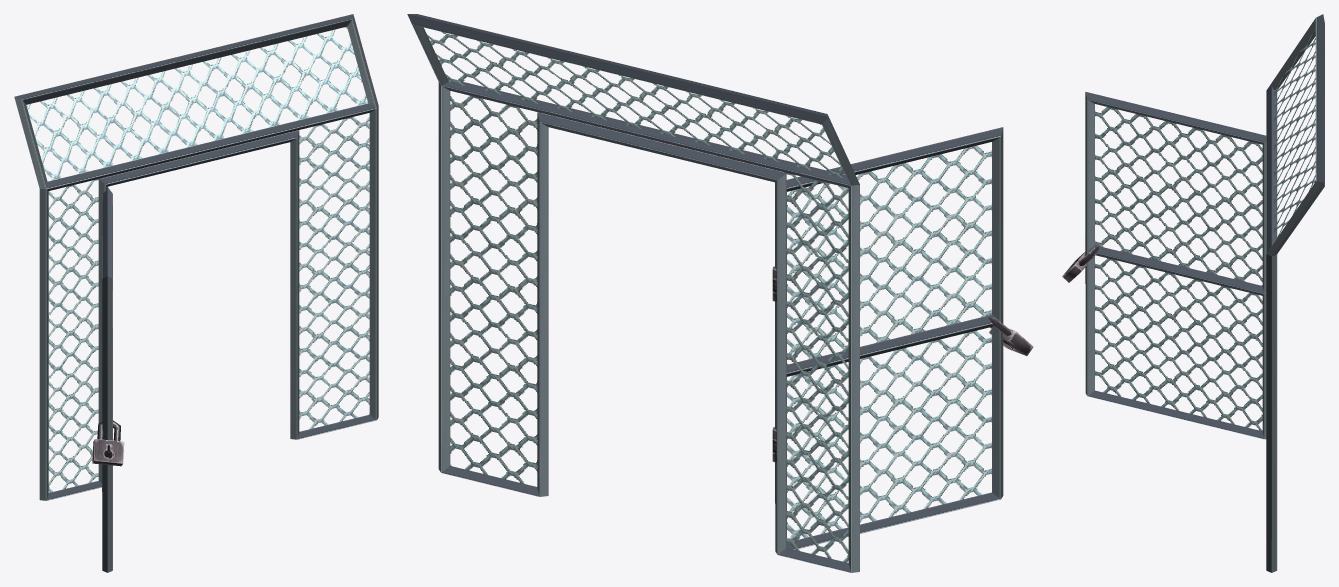
The model's file is a_sewirefence01.glb.
3 views of the same model, side by side, from view 1: azimuth 30°, elevation 25°; view 2: azimuth 150°, elevation 25°; view 3: azimuth 270°, elevation 25° (orthographic). The views are drawn at different scales.
Parts seen in each view (by area): view 1: a_sewirefence01; view 2: a_sewirefence01; view 3: a_sewirefence01.
Part boxes in pixels (box(x1,y1,x2,y2)): a_sewirefence01: box(14, 14, 378, 572); a_sewirefence01: box(407, 14, 1033, 572); a_sewirefence01: box(1062, 14, 1324, 572).
Size of the model in its own units: 2.32 by 2.23 by 1.36.
3 materials, 3 textured.
